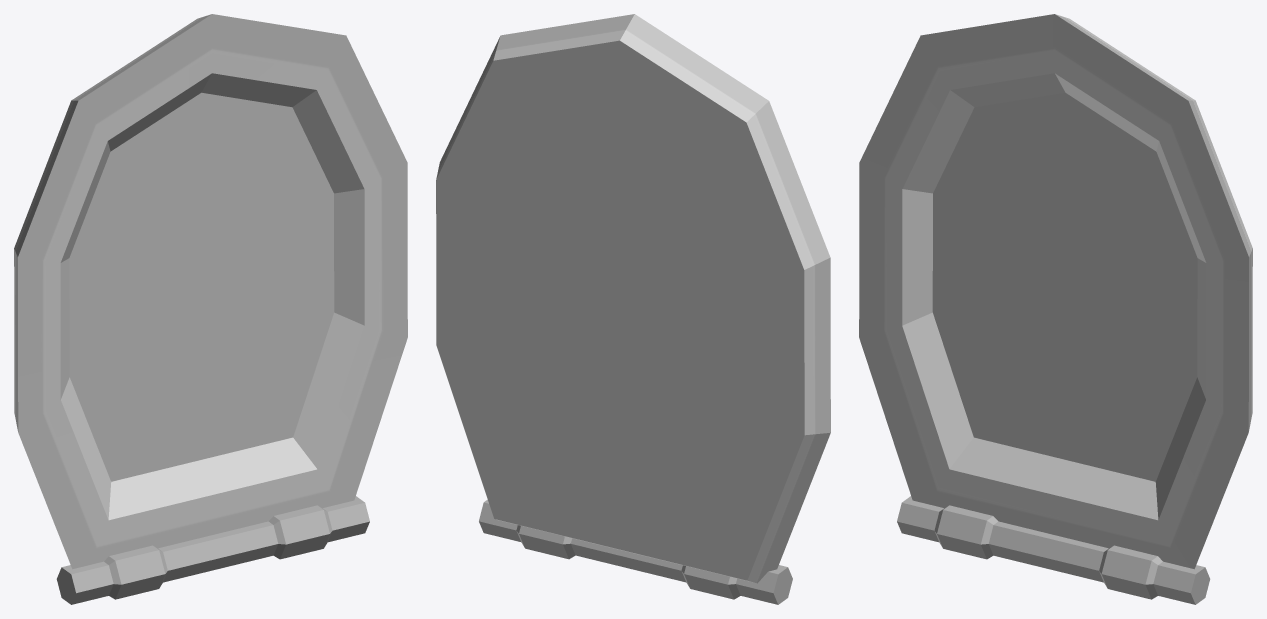
Rendered from SM_Prop_Toilet_Lid_01.obj.
3 renders of one model, left to right at view 1: azimuth 30°, elevation 25°; view 2: azimuth 150°, elevation 25°; view 3: azimuth 330°, elevation 25°, orthographic.
Parts seen in each view (by area): view 1: SM_Prop_Toilet_Lid_01_0; view 2: SM_Prop_Toilet_Lid_01_0; view 3: SM_Prop_Toilet_Lid_01_0.
Boxes of the visible parts, x1,y1,x2,y2 form: SM_Prop_Toilet_Lid_01_0: (14, 14, 407, 604); SM_Prop_Toilet_Lid_01_0: (436, 14, 830, 604); SM_Prop_Toilet_Lid_01_0: (859, 14, 1252, 604).
Size of the model in its own units: 0.4073 by 0.5543 by 0.0514.
1 material, 1 textured.
